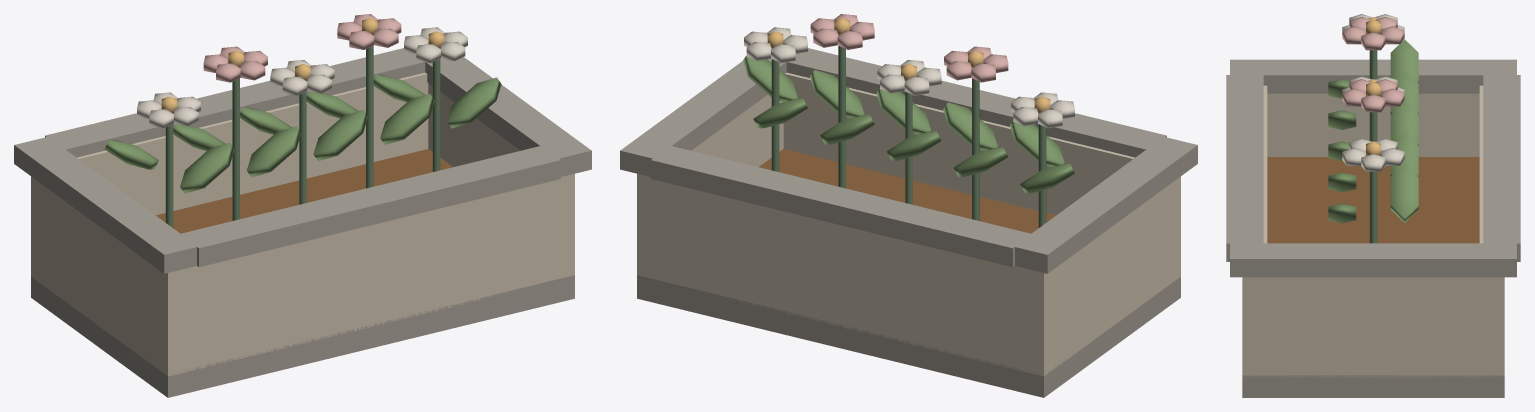
Rendered from komachi-planter.glb.
3 renders of one model, left to right at view 1: azimuth 30°, elevation 25°; view 2: azimuth 150°, elevation 25°; view 3: azimuth 270°, elevation 25°, orthographic. The views are drawn at different scales.
Visible parts, largest first — view 1: Flower_Planter; view 2: Flower_Planter; view 3: Flower_Planter.
Boxes of the visible parts, <box> form: Flower_Planter: <box>14,14,591,397</box>; Flower_Planter: <box>620,14,1197,397</box>; Flower_Planter: <box>1226,14,1520,397</box>.
Size of the model in its own units: 0.378 by 0.223 by 0.236.
